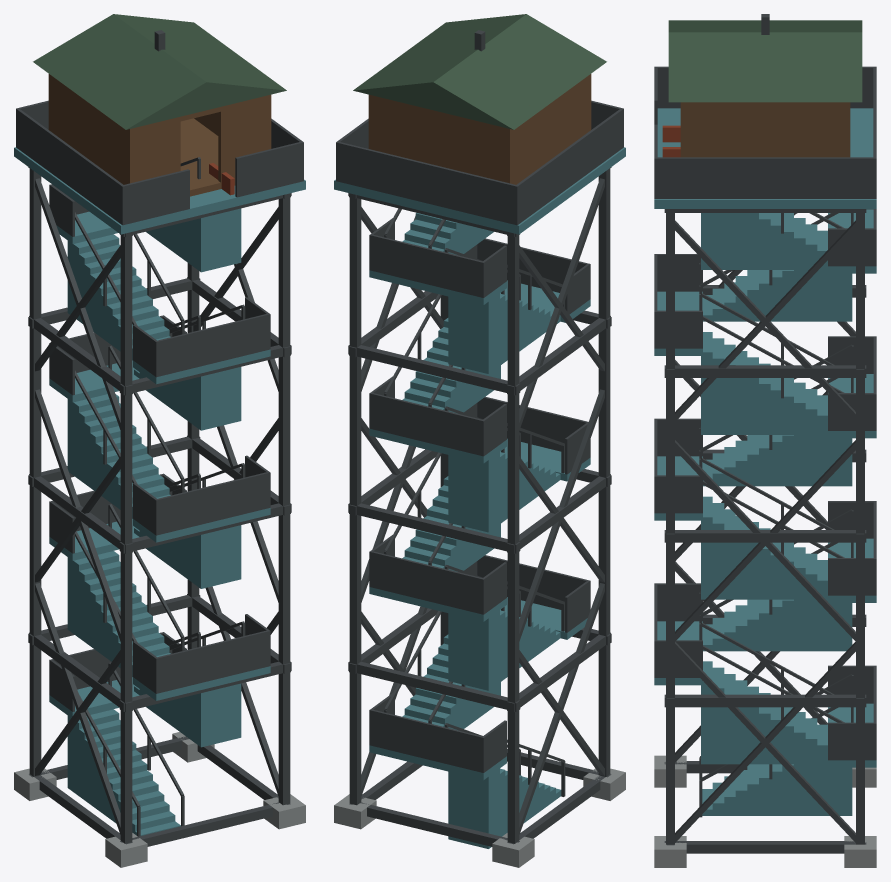
The model's file is BLK-001_FIRE_TOWER_PLAYABLE_BLOCKOUT.fbx.
3 views of the same model, side by side, from view 1: azimuth 30°, elevation 25°; view 2: azimuth 150°, elevation 25°; view 3: azimuth 270°, elevation 25° (orthographic). The views are drawn at different scales.
Parts seen in each view (by area): view 1: FT_STAIRFLIGHT_PLAYABLE_OVERRIDE_1P20, BLK001_TowerStructure, BLK001_CabinRoof, FT_CABINDOORWALL_PLAYABLE_OVERRIDE_1P20x2P20, BLK001_Guardrails; view 2: FT_STAIRFLIGHT_PLAYABLE_OVERRIDE_1P20, BLK001_TowerStructure, BLK001_CabinRoof, BLK001_Guardrails, FT_CABINDOORWALL_PLAYABLE_OVERRIDE_1P20x2P20; view 3: FT_STAIRFLIGHT_PLAYABLE_OVERRIDE_1P20, BLK001_TowerStructure, BLK001_CabinRoof, BLK001_Guardrails, FT_CABINDOORWALL_PLAYABLE_OVERRIDE_1P20x2P20, FT_BARRICADE_CLEARED_OVERRIDE.
Boxes of the visible parts, x1,y1,x2,y2 form: FT_STAIRFLIGHT_PLAYABLE_OVERRIDE_1P20: [49, 157, 270, 836]; BLK001_TowerStructure: [14, 30, 305, 867]; BLK001_CabinRoof: [33, 14, 286, 129]; FT_CABINDOORWALL_PLAYABLE_OVERRIDE_1P20x2P20: [48, 74, 271, 196]; BLK001_Guardrails: [16, 100, 303, 225]; FT_STAIRFLIGHT_PLAYABLE_OVERRIDE_1P20: [369, 208, 590, 848]; BLK001_TowerStructure: [334, 30, 625, 867]; BLK001_CabinRoof: [353, 14, 606, 129]; BLK001_Guardrails: [336, 100, 623, 225]; FT_CABINDOORWALL_PLAYABLE_OVERRIDE_1P20x2P20: [368, 74, 591, 184]; FT_STAIRFLIGHT_PLAYABLE_OVERRIDE_1P20: [654, 209, 876, 817]; BLK001_TowerStructure: [654, 14, 876, 867]; BLK001_CabinRoof: [668, 20, 862, 102]; BLK001_Guardrails: [654, 66, 876, 198]; FT_CABINDOORWALL_PLAYABLE_OVERRIDE_1P20x2P20: [680, 102, 850, 157]; FT_BARRICADE_CLEARED_OVERRIDE: [662, 125, 680, 157].
Size of the model in its own units: 5.5 by 22 by 5.5.
